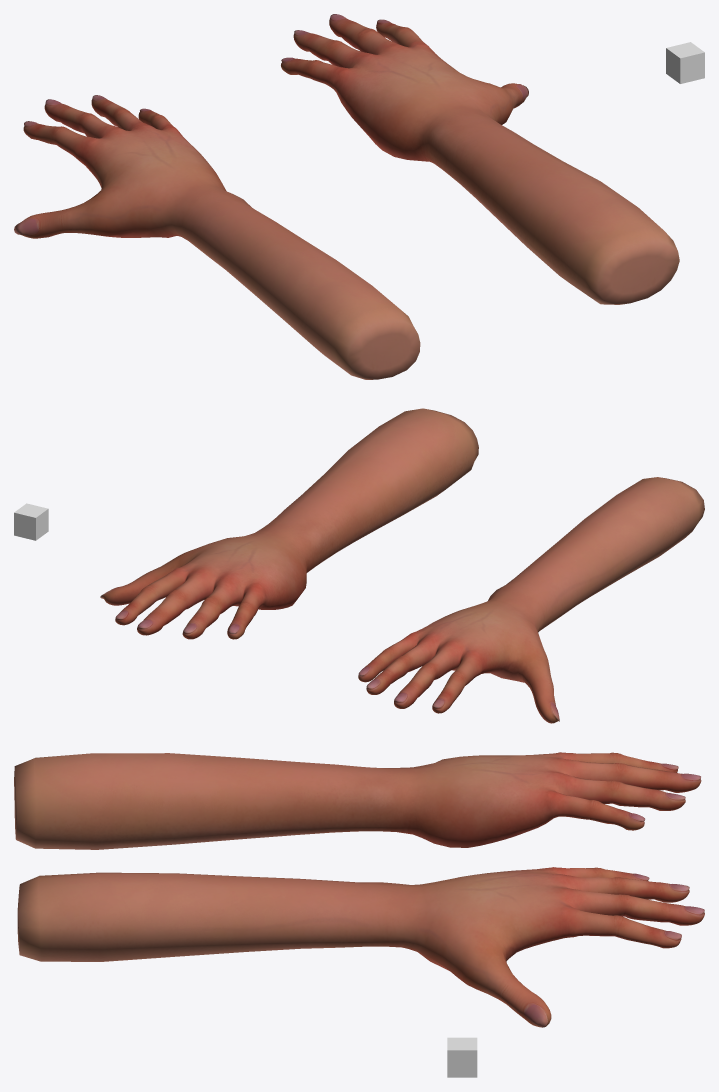
The model's file is Untit1led.glb.
3 renders of one model, top to bottom at view 1: azimuth 30°, elevation 25°; view 2: azimuth 150°, elevation 25°; view 3: azimuth 270°, elevation 25°, orthographic. The views are drawn at different scales.
Parts seen in each view (by area): view 1: Female_Arm, Female_Arm_FemaleArm_0.001, Cube; view 2: Female_Arm, Female_Arm_FemaleArm_0.001, Cube; view 3: Female_Arm, Female_Arm_FemaleArm_0.001, Cube.
Boxes of the visible parts, x1,y1,x2,y2 form: Female_Arm: [281, 14, 679, 304]; Female_Arm_FemaleArm_0.001: [14, 95, 420, 379]; Cube: [666, 42, 704, 83]; Female_Arm: [100, 408, 478, 639]; Female_Arm_FemaleArm_0.001: [358, 477, 704, 723]; Cube: [14, 503, 48, 540]; Female_Arm: [17, 867, 704, 1027]; Female_Arm_FemaleArm_0.001: [14, 752, 701, 849]; Cube: [447, 1037, 477, 1077].
Size of the model in its own units: 52.36 by 7.3 by 45.86.
Materials: 3 (2 with a texture image).
